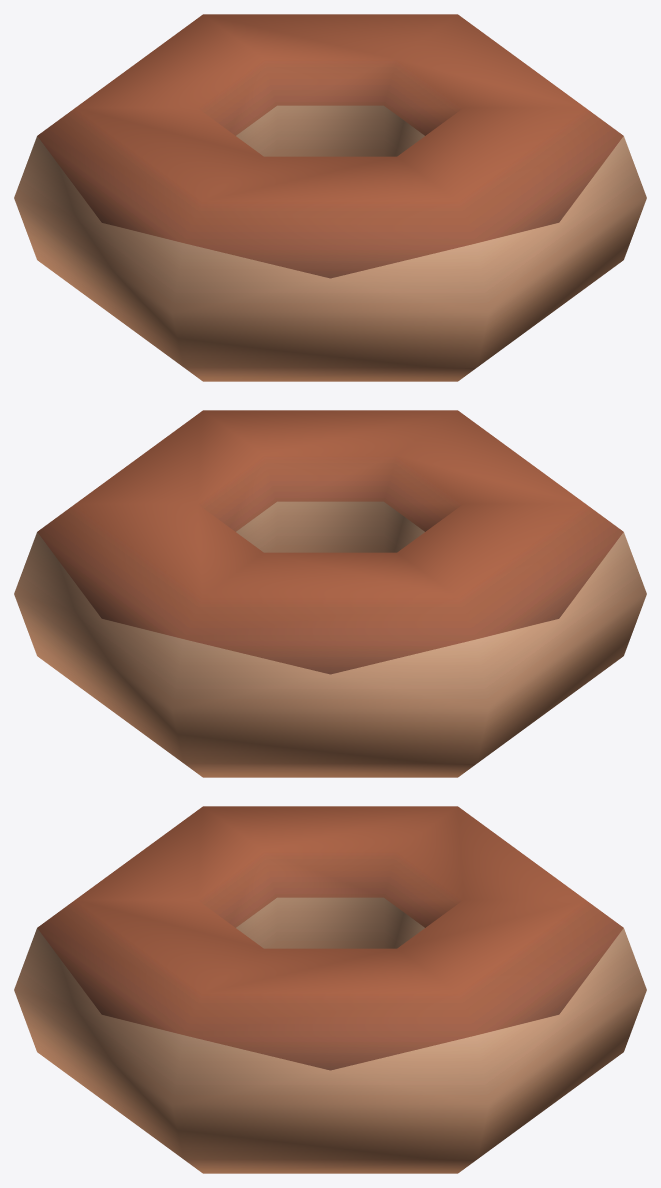
Rendered from donut-chocolate.glb.
3 renders of one model, top to bottom at view 1: azimuth 30°, elevation 25°; view 2: azimuth 150°, elevation 25°; view 3: azimuth 270°, elevation 25°, orthographic.
Parts seen in each view (by area): view 1: donut-chocolate; view 2: donut-chocolate; view 3: donut-chocolate.
Part boxes in pixels (box(x1,y1,x2,y2)): donut-chocolate: box(14, 14, 646, 381); donut-chocolate: box(14, 410, 646, 777); donut-chocolate: box(14, 806, 646, 1173).
Bounding box in the file's own units: 0.2451 × 0.0889 × 0.283.
1 material, 1 textured.
